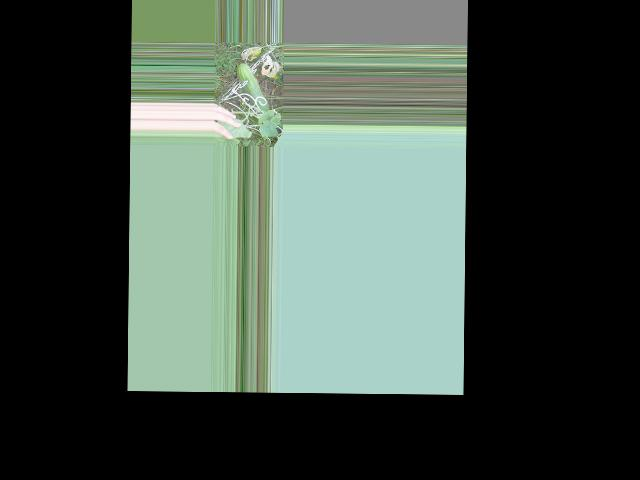cucumber: (235, 63, 269, 112)
